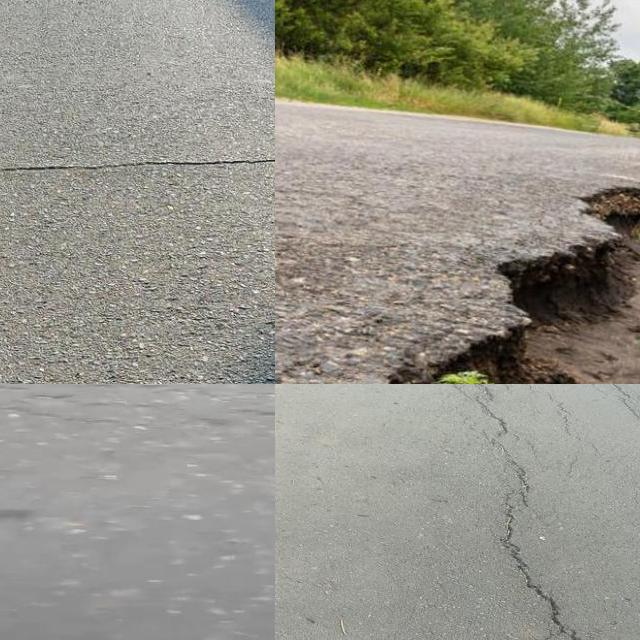Melintang: (0, 145, 275, 191)
Memanjang: (447, 384, 615, 640)
Pinggir: (371, 179, 640, 384)
